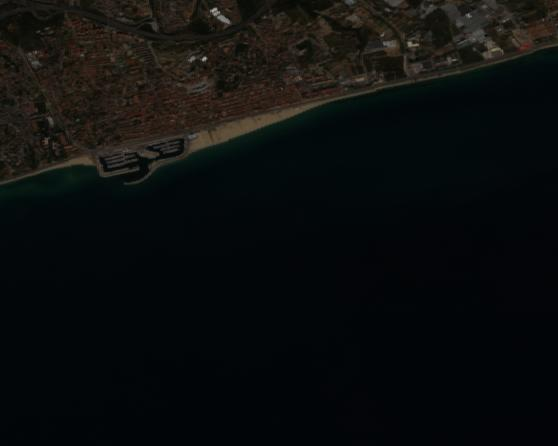Industria: (347, 1, 554, 92)
Poblacion: (2, 1, 349, 187)
